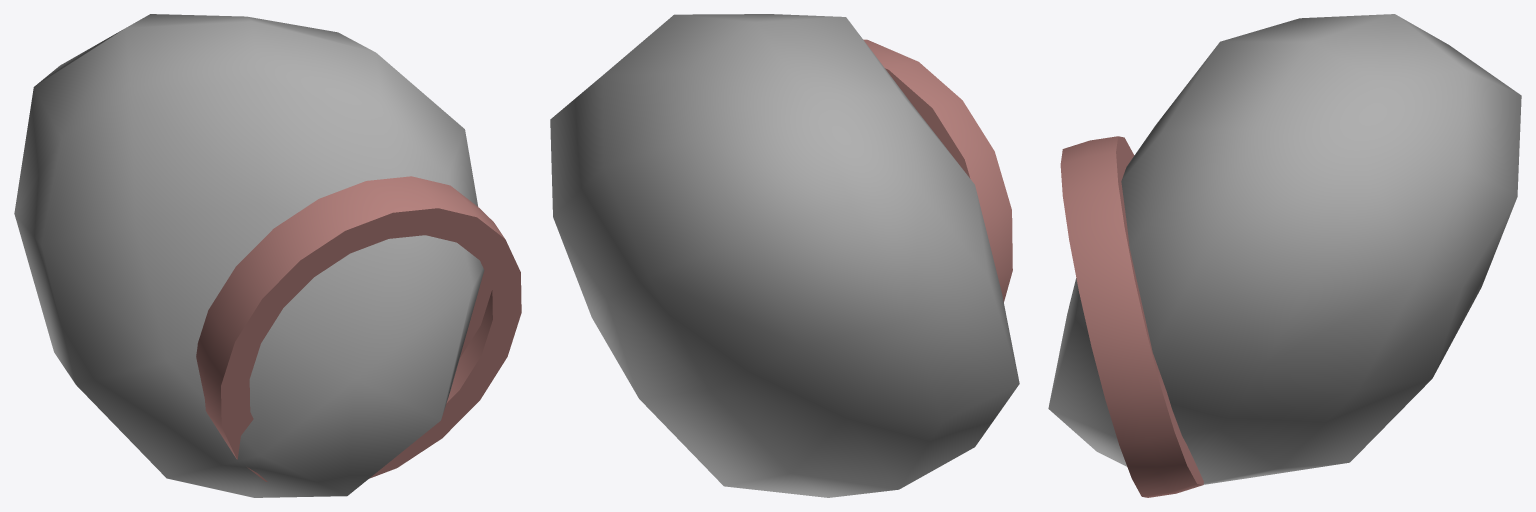
Rendered from cheveux.fbx.
3 views of the same model, side by side, from view 1: azimuth 30°, elevation 25°; view 2: azimuth 150°, elevation 25°; view 3: azimuth 270°, elevation 25° (orthographic). The views are drawn at different scales.
Visible parts, largest first — view 1: pCube2, polySurface19; view 2: pCube2, polySurface19; view 3: pCube2, polySurface19.
Boxes of the visible parts, x1,y1,x2,y2 form: pCube2: [14, 14, 484, 497]; polySurface19: [196, 176, 521, 481]; pCube2: [550, 14, 1019, 497]; polySurface19: [863, 39, 1012, 302]; pCube2: [1048, 14, 1521, 484]; polySurface19: [1060, 136, 1203, 497].
Size of the model in its own units: 2.21 by 2.38 by 2.25.
